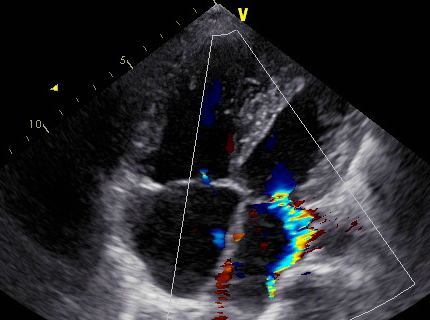MR: (252, 178, 317, 239)
